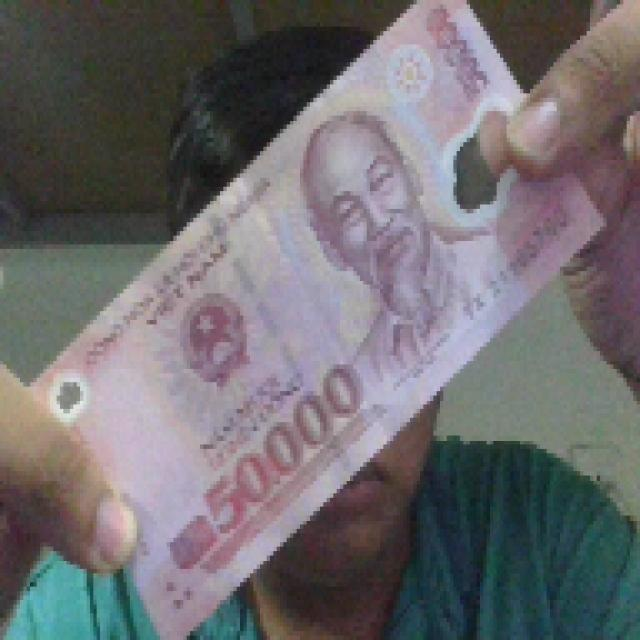50 000 VND: (20, 0, 610, 636)
